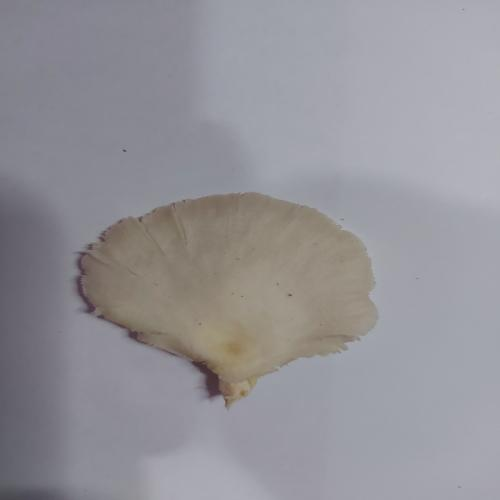Oyster Mushroom: (75, 190, 380, 410)
